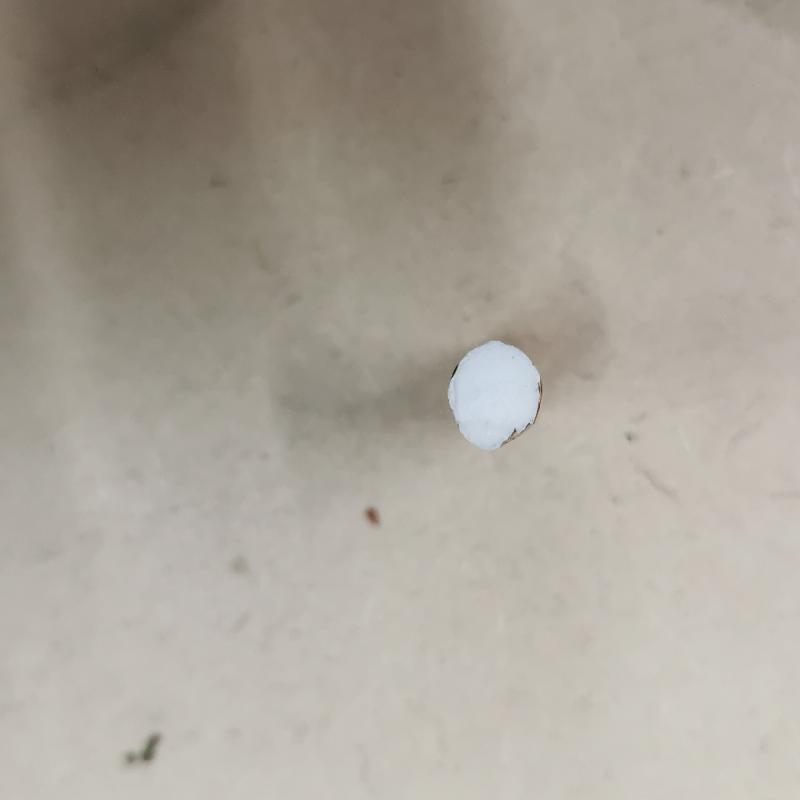cigarette: (449, 337, 547, 455)
